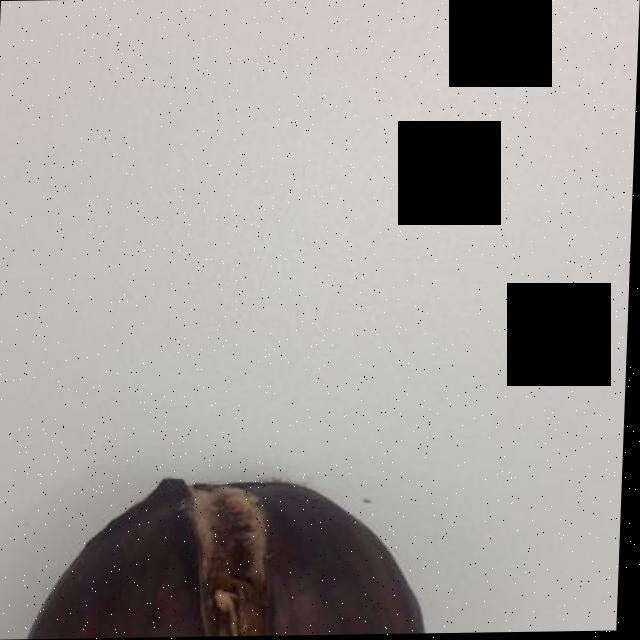chestnuts: (29, 489, 438, 631), (39, 493, 412, 622)
